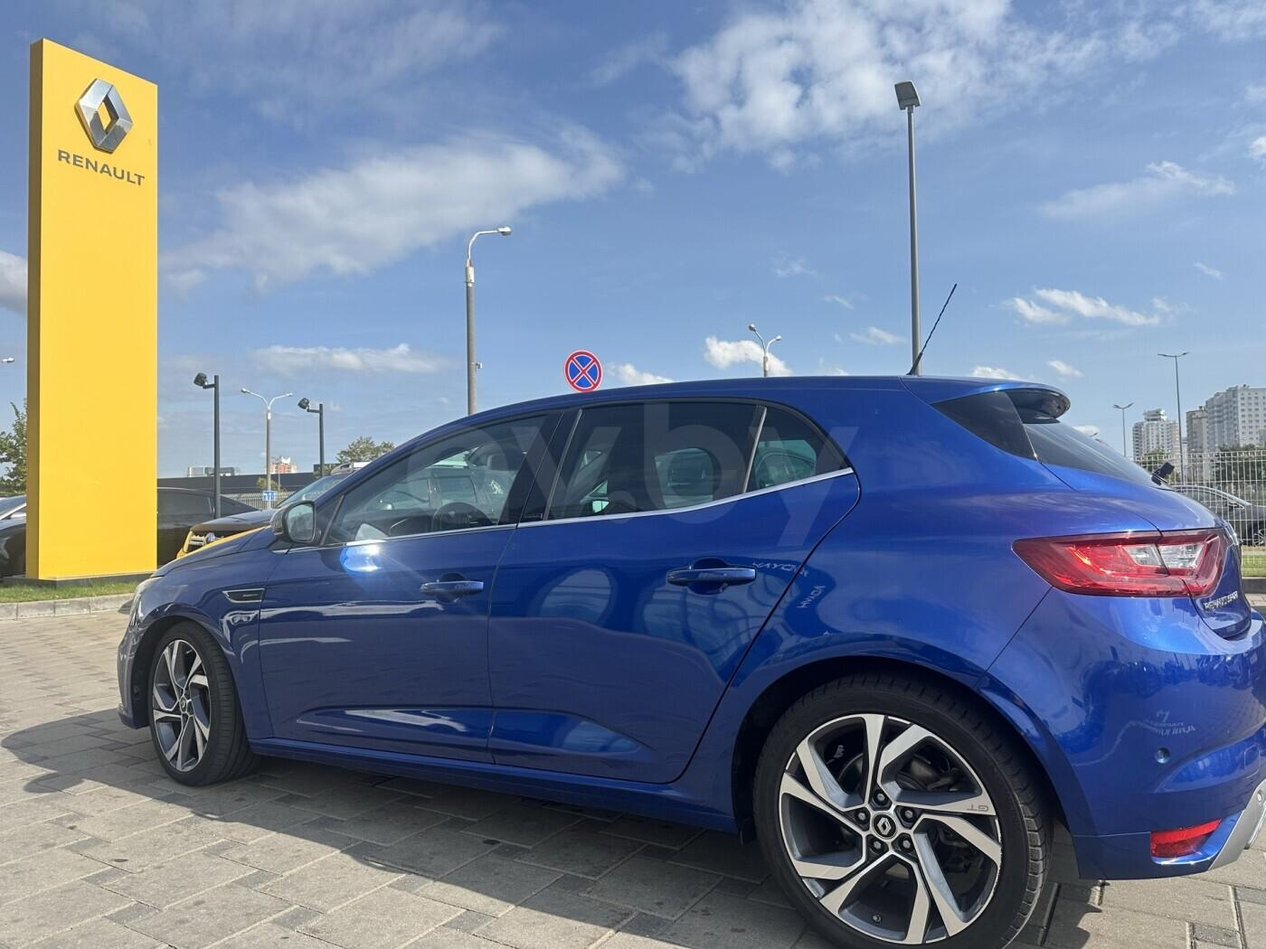Megane_2016-2020: (99, 363, 1266, 949)
